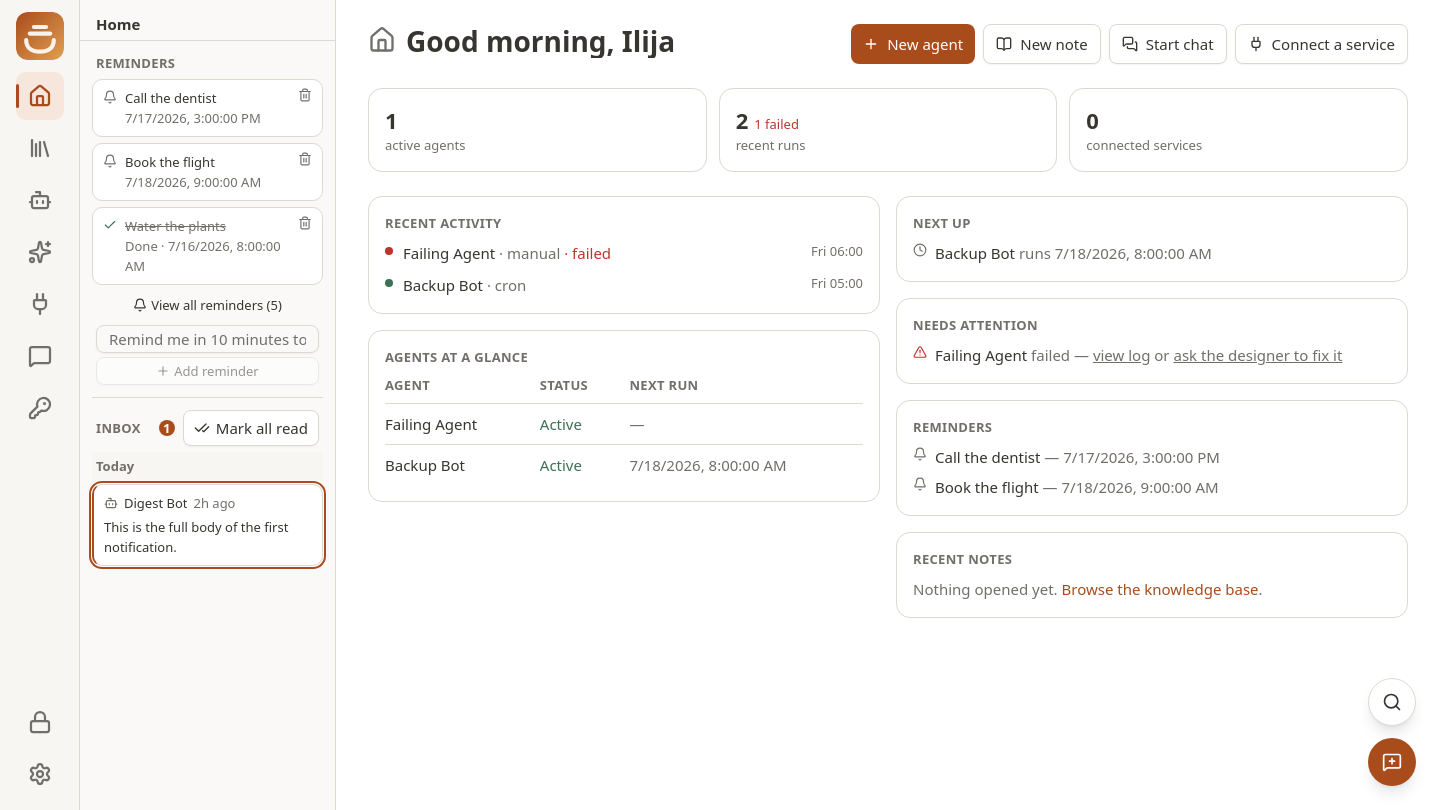
Test: reminders: the pane caps at 3 and the rest open in the View all modal
Expected: the text "Call the dentist" below "Home" is shown, [125, 89, 216, 107]
Expected: the text "Renew the domain" is not shown
Click the button "View all reminders (5)" at (208, 305), box [92, 291, 323, 319]
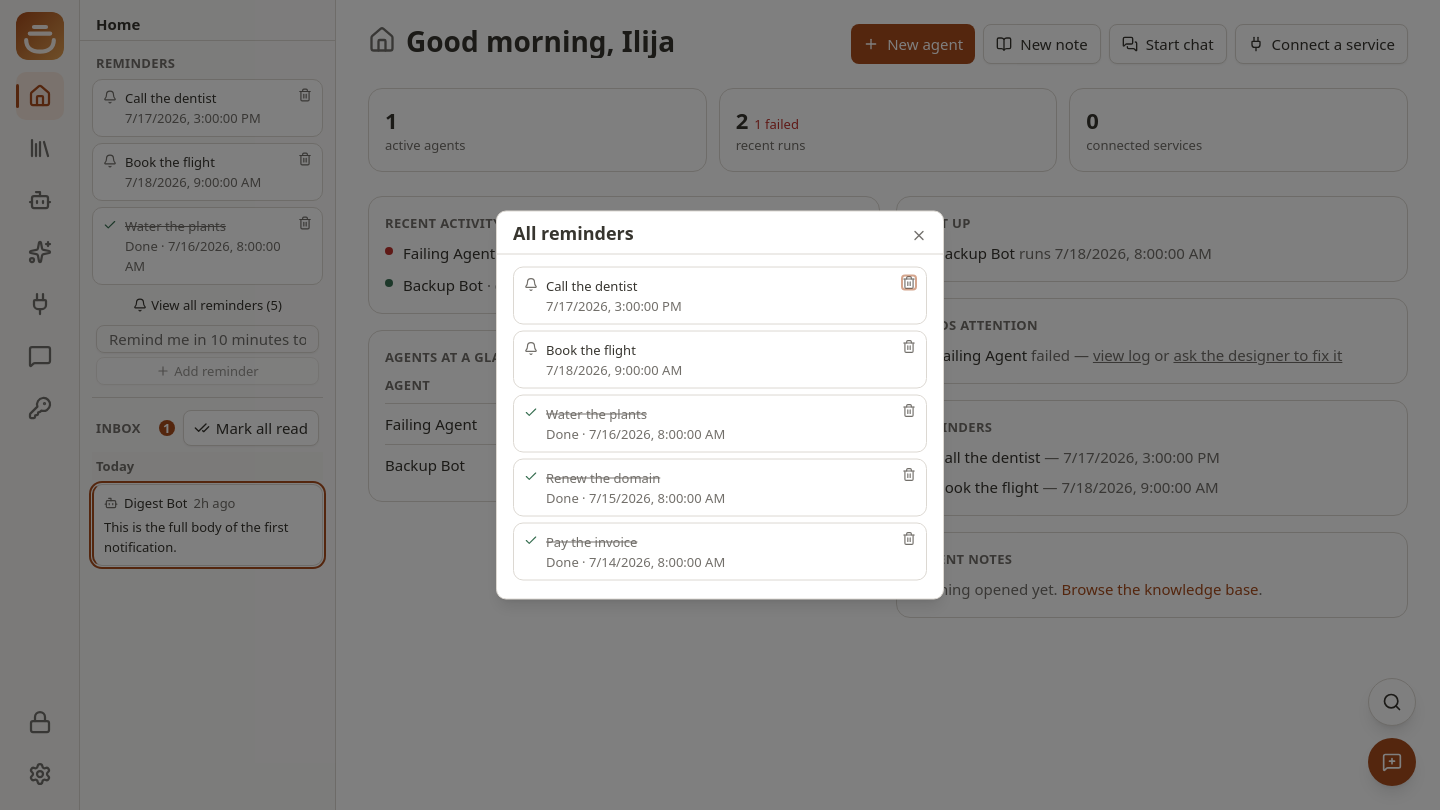
Now the heading "All reminders" is shown, box [513, 220, 634, 244]
Now the text "Renew the domain" is shown, box [546, 468, 660, 486]
Now the text "Pay the invoice" is shown, box [546, 532, 637, 550]
